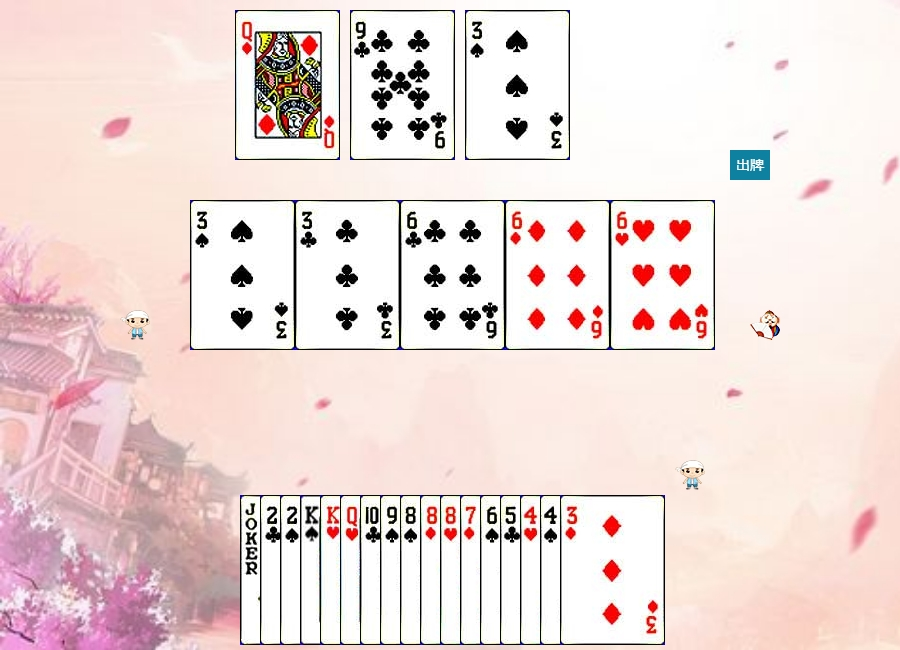10~2: (360, 495, 465, 645)
12~1: (235, 10, 340, 160)
12~3: (340, 495, 445, 645)
13~3: (320, 495, 425, 645)
13~4: (300, 495, 405, 645)
15~2: (260, 495, 365, 645)
15~4: (280, 495, 385, 645)
17~3: (240, 495, 345, 645)
3~1: (560, 495, 665, 645)
3~2: (295, 200, 400, 350)
3~4: (465, 10, 570, 160), (190, 200, 295, 350)
4~3: (520, 495, 625, 645)
4~4: (540, 495, 645, 645)
5~2: (500, 495, 605, 645)
6~1: (505, 200, 610, 350)
6~2: (400, 200, 505, 350)
6~3: (610, 200, 715, 350)
6~4: (480, 495, 585, 645)
7~1: (460, 495, 565, 645)
8~1: (420, 495, 525, 645)
8~3: (440, 495, 545, 645)
8~4: (400, 495, 505, 645)
9~2: (350, 10, 455, 160)
9~4: (380, 495, 485, 645)
